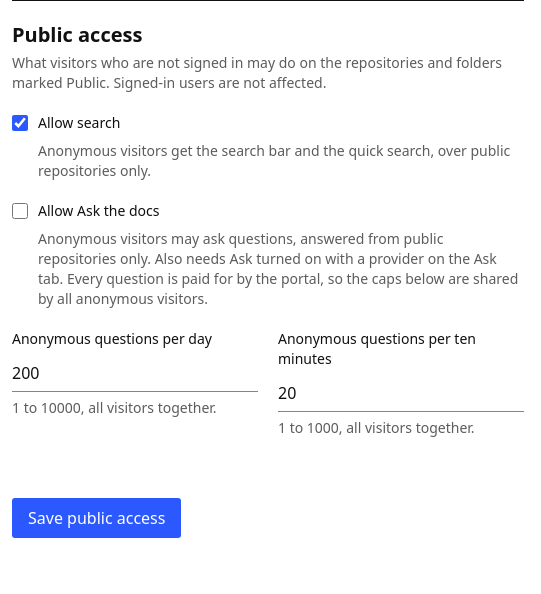
Test case: PublicAccessSettings › saves every setting and announces it
This screenshot has width=541, height=594.
Click the switch labelled "Allow search".
click(20, 123)  # box [12,115,28,131]
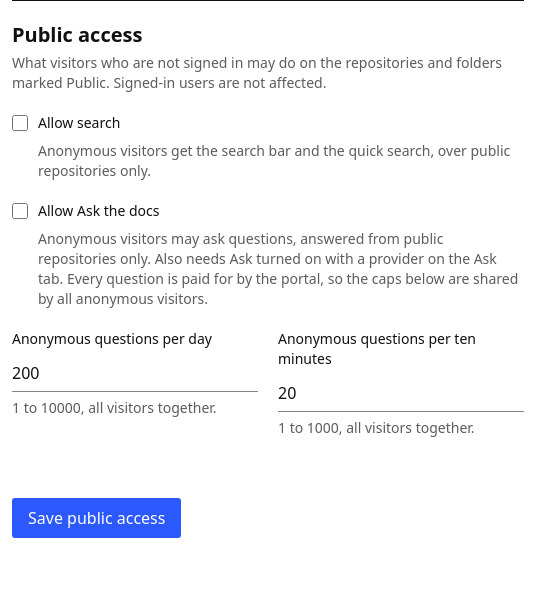
Click the switch labelled "Allow Ask the docs".
click(20, 211)  # box [12,203,28,219]
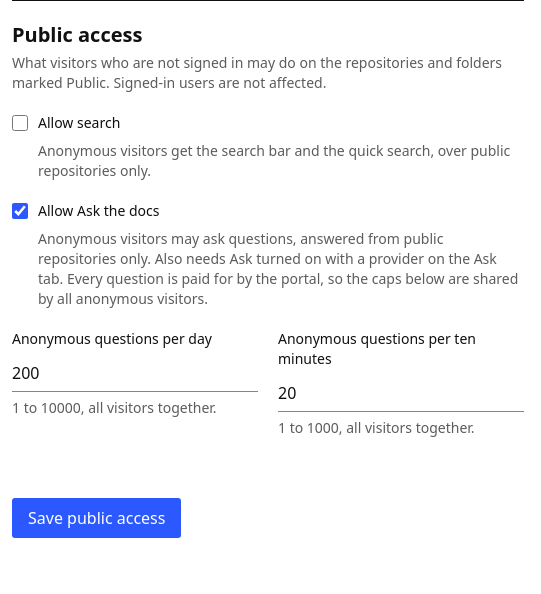
Replace the text in the field labelled "Anonymous questions per day" with "50" at coordinates (135, 374), box [12,355,258,392]
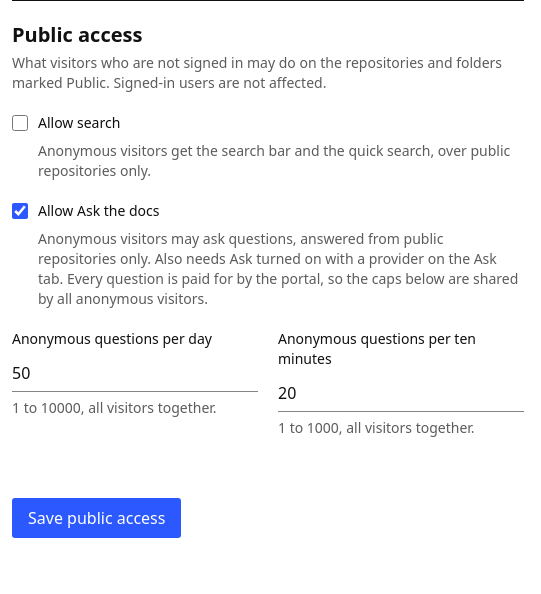
Replace the text in the field labelled "Anonymous questions per ten minutes" with "5" at coordinates (401, 394), box [278,375,524,412]
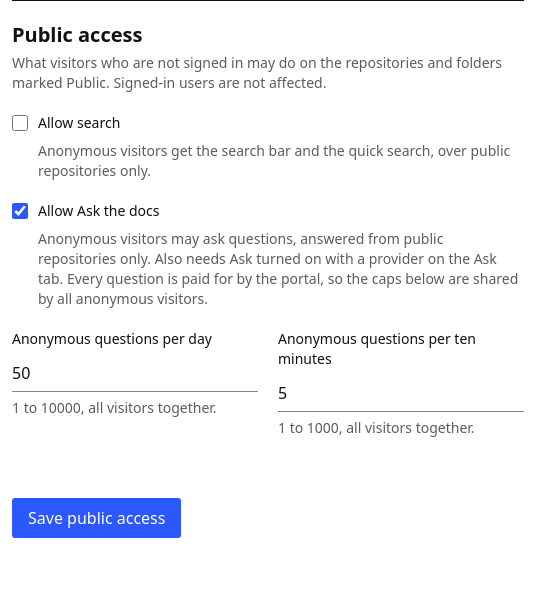
Click the button "Save public access".
click(97, 518)  # box [12,498,181,538]
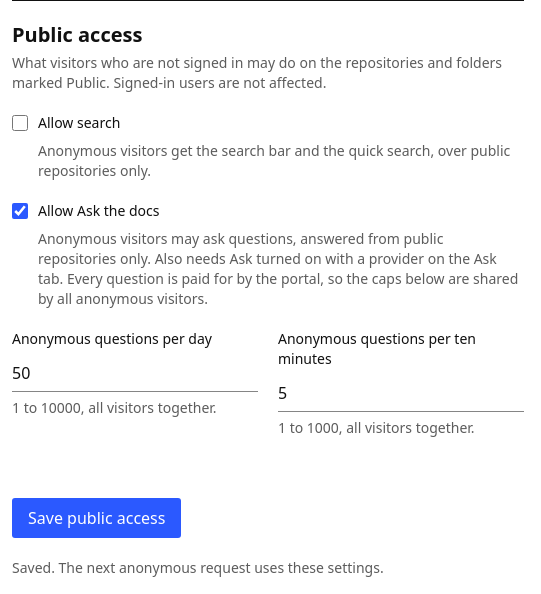
Expected: the message with test id "public-access-result" shows "Saved", [12,558,384,577]
